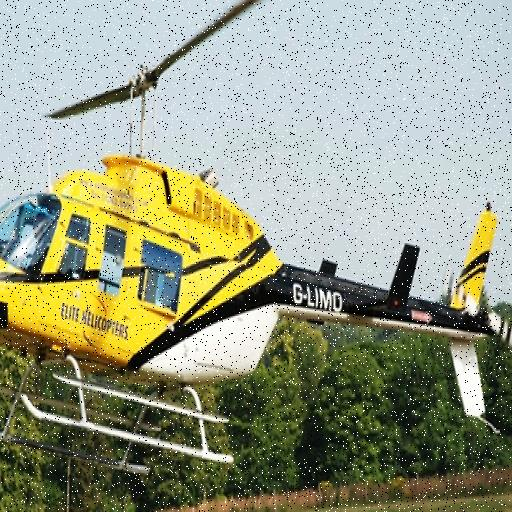helicopter: (1, 1, 512, 492)
